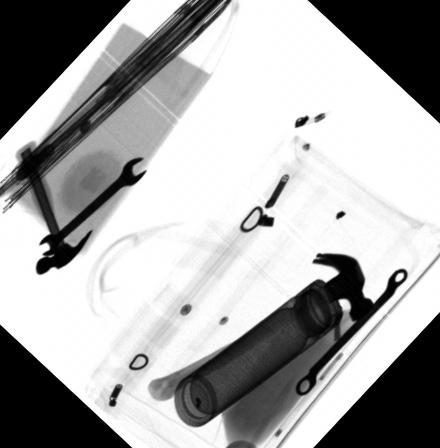Hammer: (147, 252, 375, 402), (14, 139, 92, 274)
Wrench: (295, 266, 407, 395), (37, 154, 146, 254)
